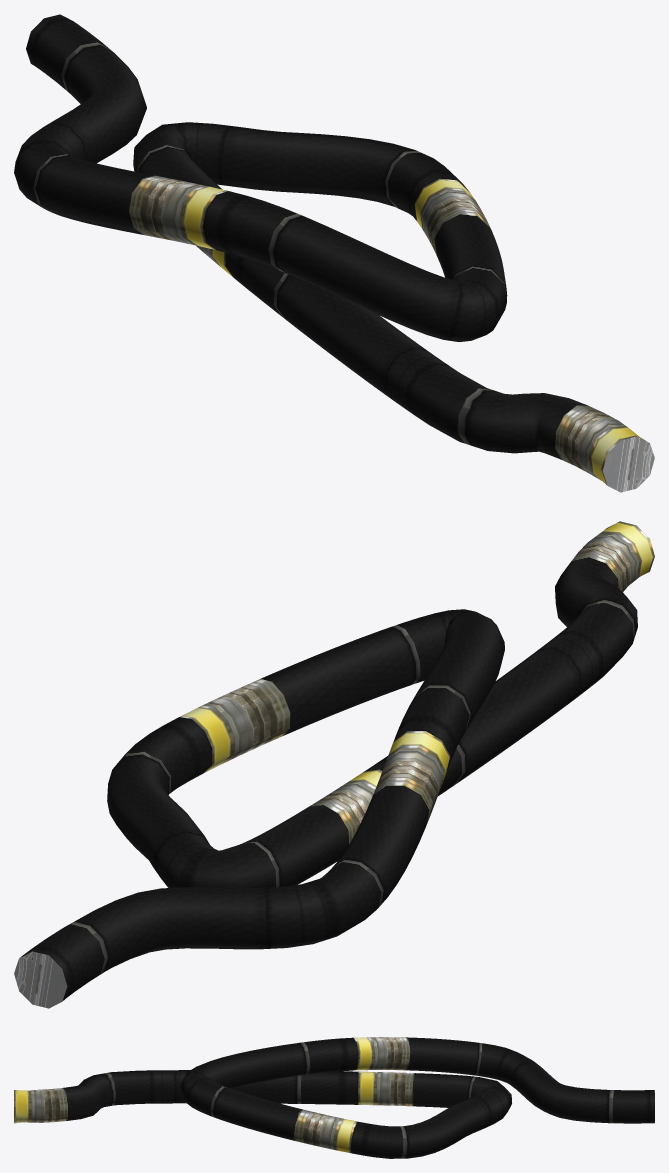
The model's file is SM_Hose9.fbx.
3 views of the same model, one above another, from view 1: azimuth 30°, elevation 25°; view 2: azimuth 150°, elevation 25°; view 3: azimuth 270°, elevation 25° (orthographic). The views are drawn at different scales.
Visible parts, largest first — view 1: SM_Hose9_LOD0; view 2: SM_Hose9_LOD0; view 3: SM_Hose9_LOD0.
Boxes of the visible parts, x1,y1,x2,y2 form: SM_Hose9_LOD0: (14, 14, 654, 492); SM_Hose9_LOD0: (14, 521, 654, 1008); SM_Hose9_LOD0: (14, 1037, 654, 1158).
Bounding box in the file's own units: 66.71 × 200 × 19.59.
Materials: 2 (2 with a texture image).
